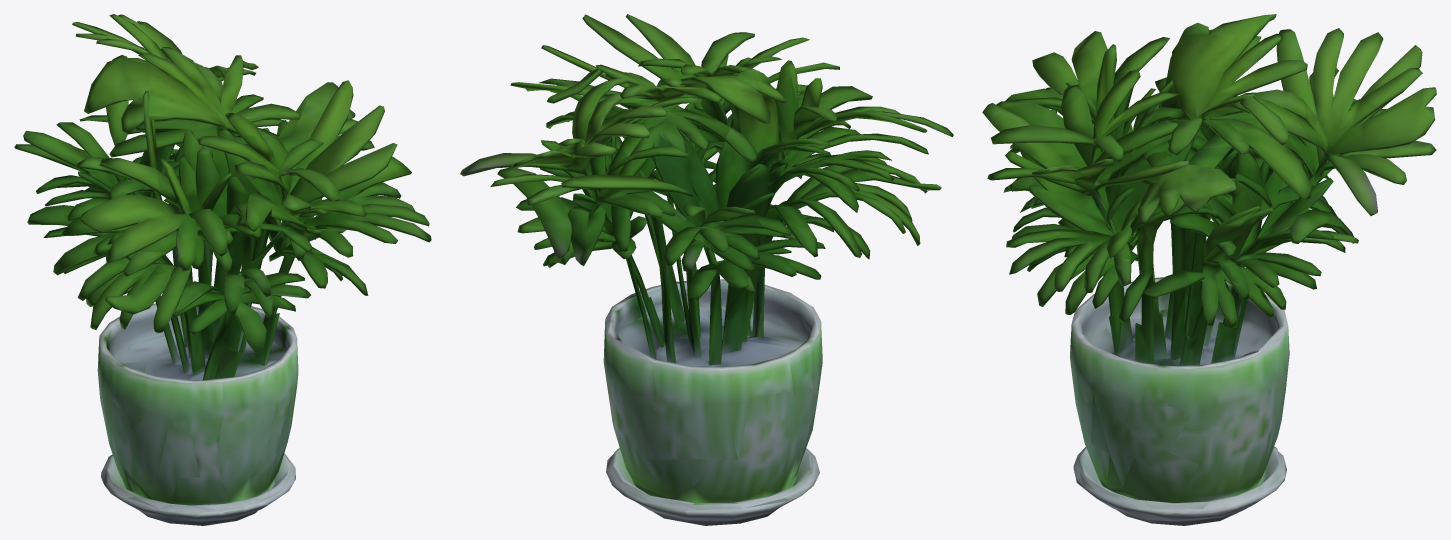
The model's file is 小型绿植-Small.fbx.
3 renders of one model, left to right at view 1: azimuth 30°, elevation 25°; view 2: azimuth 150°, elevation 25°; view 3: azimuth 270°, elevation 25°, orthographic. The views are drawn at different scales.
Parts seen in each view (by area): view 1: texture_pbr_v128; view 2: texture_pbr_v128; view 3: texture_pbr_v128.
Boxes of the visible parts, <box> form: texture_pbr_v128: <box>14,14,431,525</box>; texture_pbr_v128: <box>460,14,953,525</box>; texture_pbr_v128: <box>982,14,1436,525</box>.
Bounding box in the file's own units: 81.34 × 95.85 × 86.15.
Materials: 1 (1 with a texture image).
